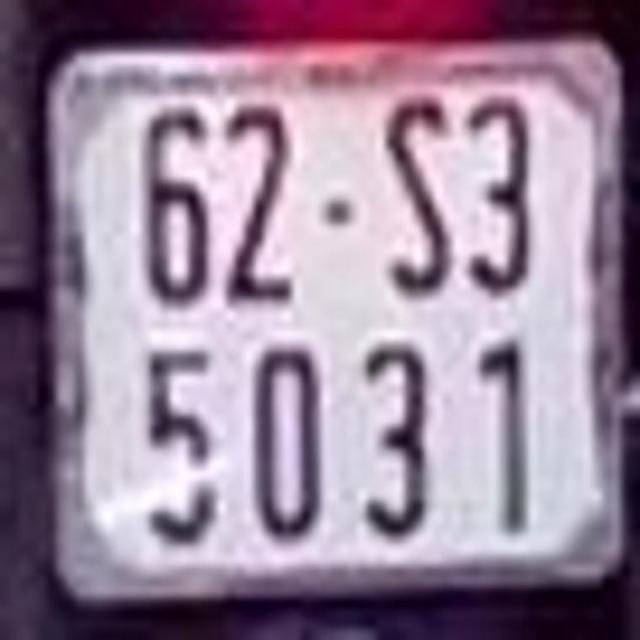0: (251, 343, 320, 531)
1: (475, 336, 530, 538)
2: (224, 110, 295, 300)
3: (362, 344, 426, 538), (462, 98, 526, 288)
5: (151, 352, 219, 538)
6: (143, 106, 212, 298)
S: (385, 93, 453, 300)
